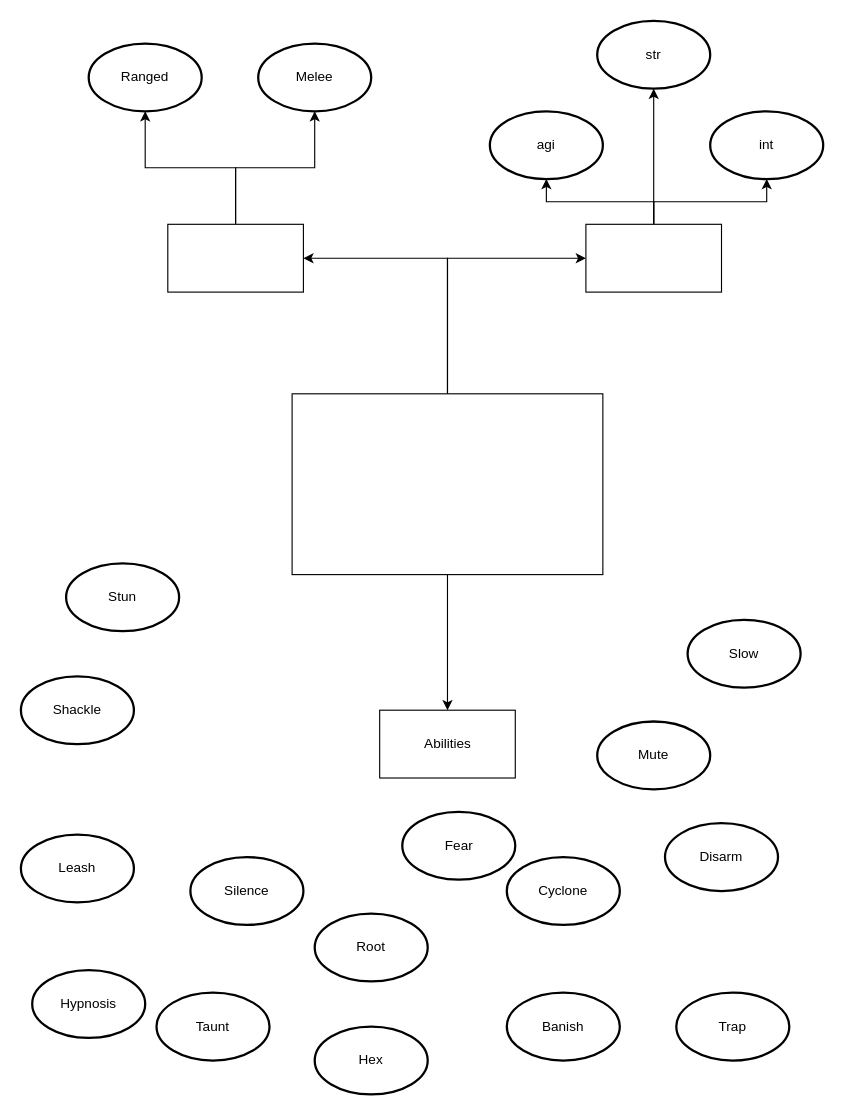
Some shapes in this 843 by 1114 pixel diagram are drawn without their labels. The box of each missing label's shape, as (x1, y1, x2, y2) in pixels:
attack type: (167, 223, 303, 292)
Hero: (291, 393, 603, 575)
Primary attribute: (585, 223, 722, 292)
